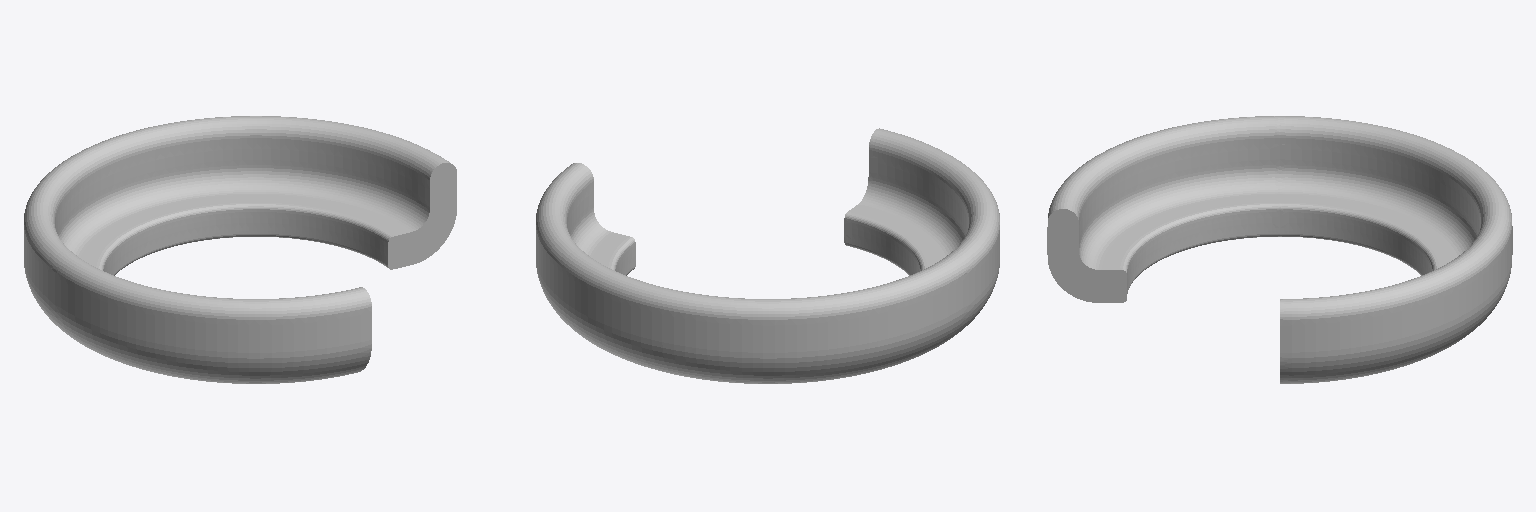
The picture shows the model from 3 angles: view 1: azimuth 30°, elevation 25°; view 2: azimuth 150°, elevation 25°; view 3: azimuth 270°, elevation 25°; orthographic projection.
Parts seen in each view (by area): view 1: Ring; view 2: Ring; view 3: Ring.
Part boxes in pixels (left/top/right/bottom): Ring: left=24, top=116, right=456, bottom=383; Ring: left=536, top=128, right=999, bottom=383; Ring: left=1047, top=116, right=1512, bottom=383.
Bounding box in the file's own units: 0.0888 × 0.0199 × 0.0888.